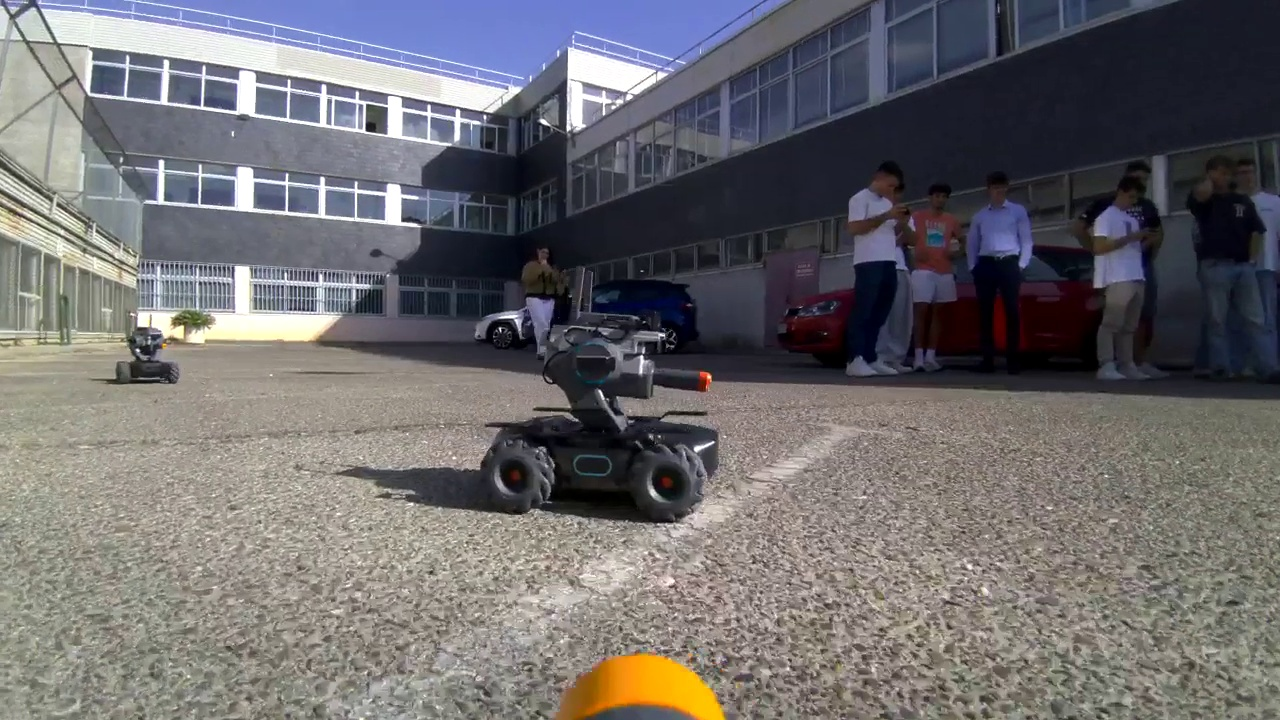robot: (486, 309, 716, 521), (99, 321, 189, 387)
